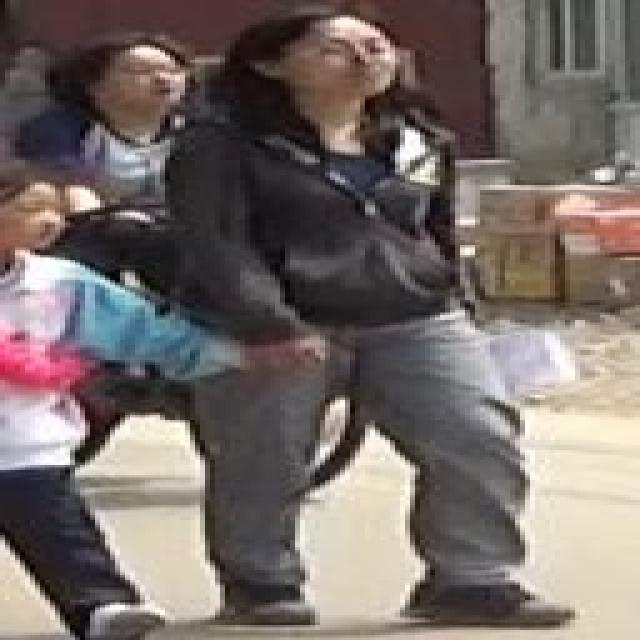adult: (158, 2, 616, 632), (20, 35, 266, 347)
child: (0, 169, 217, 640)
